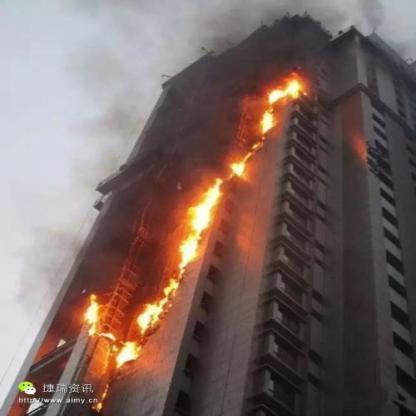fire: (22, 285, 166, 415), (167, 173, 235, 295), (222, 106, 282, 177), (259, 63, 317, 104)
smoke: (168, 9, 381, 57)
